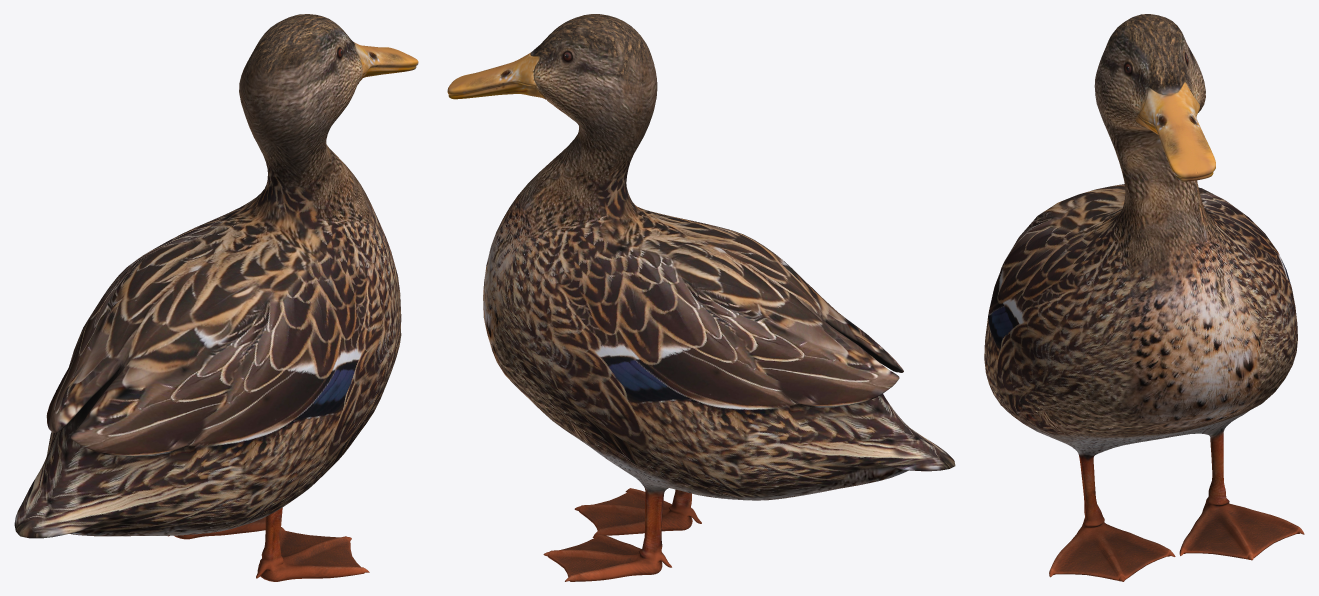
Rendered from rata.obj.
The picture shows the model from 3 angles, left to right: view 1: azimuth 30°, elevation 25°; view 2: azimuth 150°, elevation 25°; view 3: azimuth 270°, elevation 25°; orthographic projection. The views are drawn at different scales.
Visible parts, largest first — view 1: 12249_Bird_v1_L2; view 2: 12249_Bird_v1_L2; view 3: 12249_Bird_v1_L2.
Part boxes in pixels (box(x1,y1,x2,y2)): 12249_Bird_v1_L2: box(14, 14, 418, 581); 12249_Bird_v1_L2: box(447, 14, 955, 581); 12249_Bird_v1_L2: box(984, 14, 1304, 581).
Bounding box in the file's own units: 8.94 × 9.88 × 5.22.
1 material, 1 textured.
